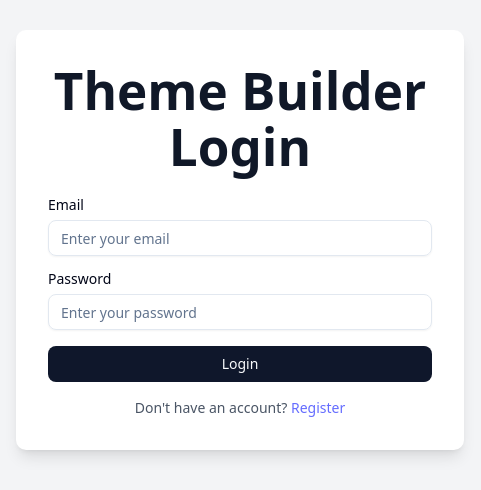
Test: LoginForm › Form Validation › shows error for invalid email format
Type "invalid-email" into the field labelled "Email" at (240, 238), box [48, 220, 432, 256]
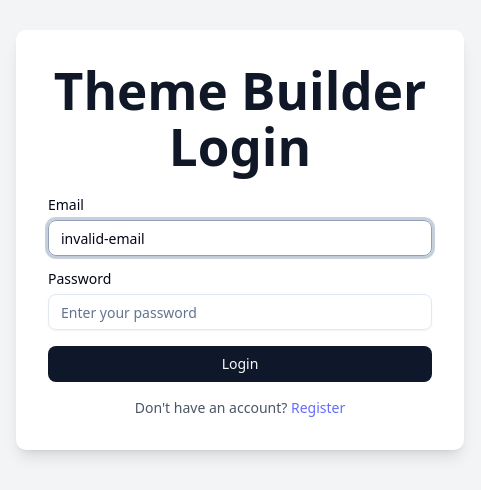
Type "password123" into the password field labelled "Password" at (240, 312), box [48, 294, 432, 330]
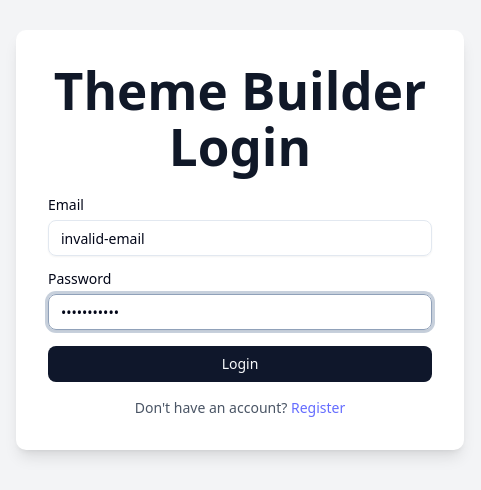
Click the button "Login" at (240, 364), box [48, 346, 432, 382]
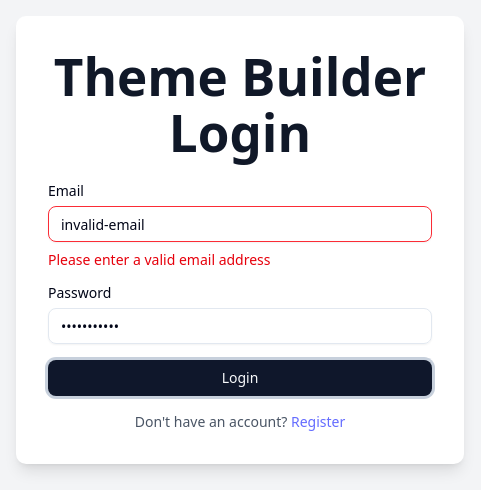
Expected: the text "Please enter a valid email address" is shown, [48, 250, 270, 269]
